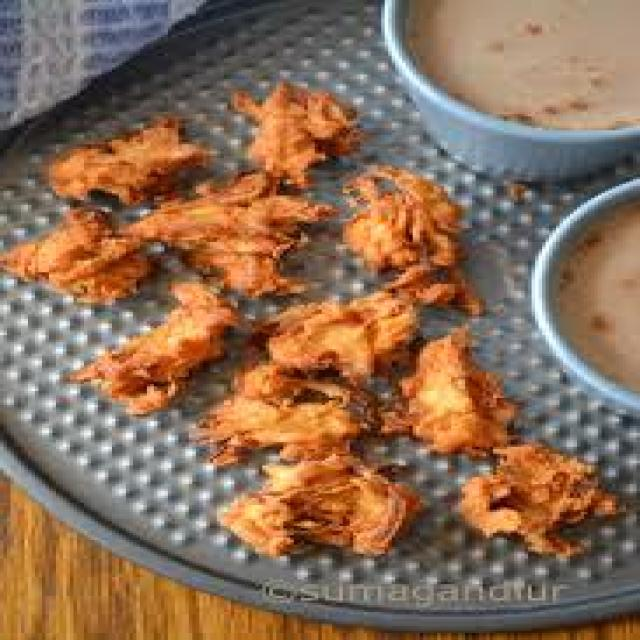BAJI: (187, 292, 424, 564), (146, 180, 342, 301), (348, 162, 491, 312), (82, 290, 243, 413), (462, 448, 635, 557), (394, 329, 524, 465), (235, 75, 371, 193), (50, 119, 212, 214), (11, 219, 166, 305)
